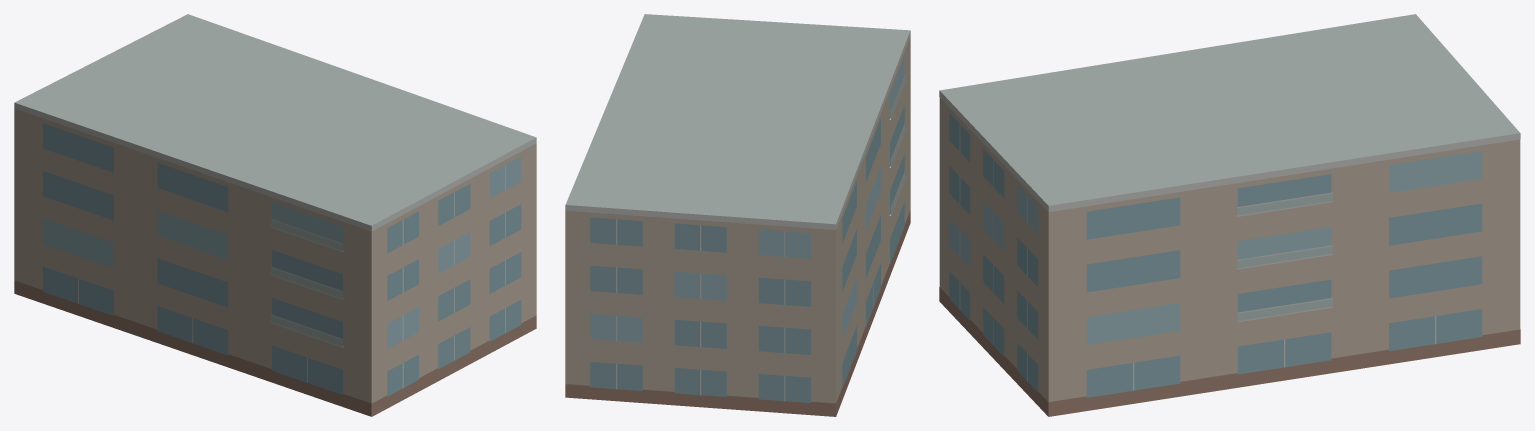
Rendered from survey-upis-32944773.glb.
The picture shows the model from 3 angles, left to right: view 1: azimuth 30°, elevation 25°; view 2: azimuth 150°, elevation 25°; view 3: azimuth 270°, elevation 25°; orthographic projection. The views are drawn at different scales.
Parts seen in each view (by area): view 1: survey-upis-32944773.tmp; view 2: survey-upis-32944773.tmp; view 3: survey-upis-32944773.tmp.
Part boxes in pixels (bbox=[...]): survey-upis-32944773.tmp: bbox=[14, 14, 536, 416]; survey-upis-32944773.tmp: bbox=[565, 14, 910, 416]; survey-upis-32944773.tmp: bbox=[939, 14, 1520, 416].
Size of the model in its own units: 15.91 by 8.15 by 20.35.
